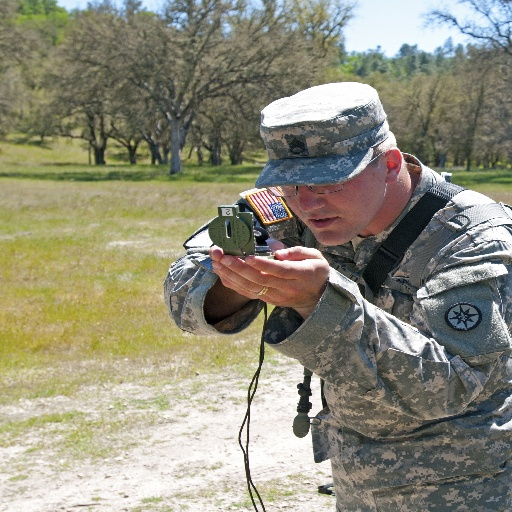hand: (216, 235, 356, 317), (206, 236, 285, 264)
